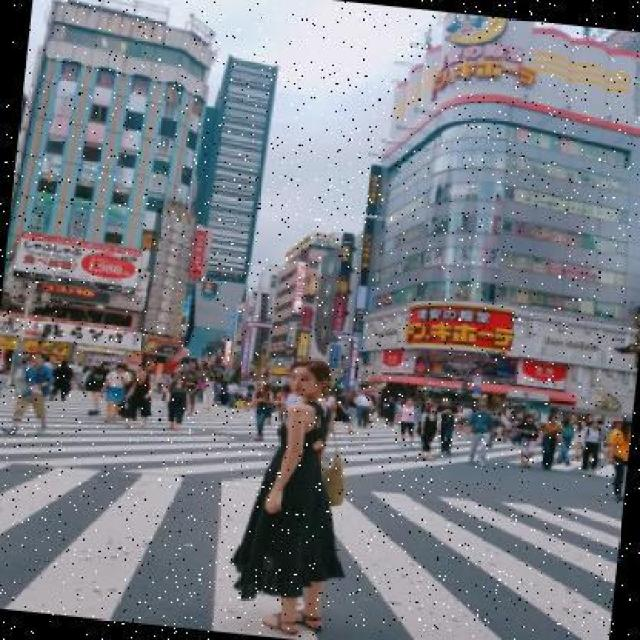Person: (243, 355, 354, 639), (0, 348, 65, 442), (464, 400, 498, 466), (123, 365, 157, 430), (101, 360, 132, 425), (534, 409, 566, 471), (511, 408, 542, 468), (163, 375, 192, 430), (415, 402, 442, 460), (578, 418, 605, 472)
